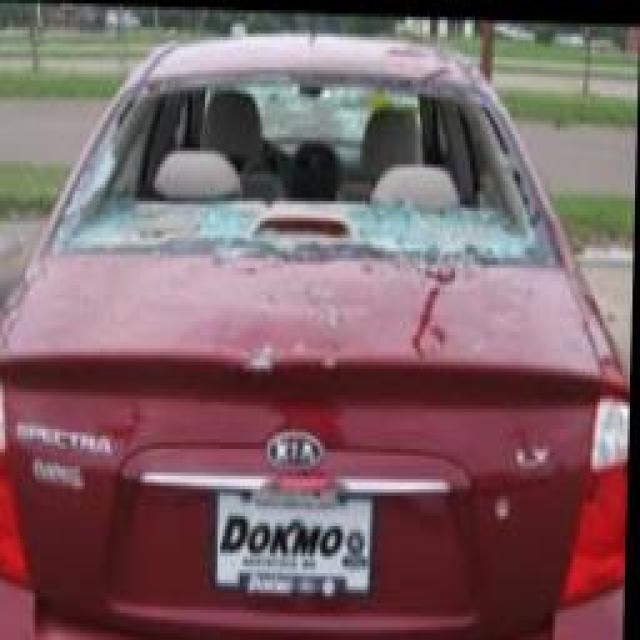Windshield: (42, 65, 558, 256)
